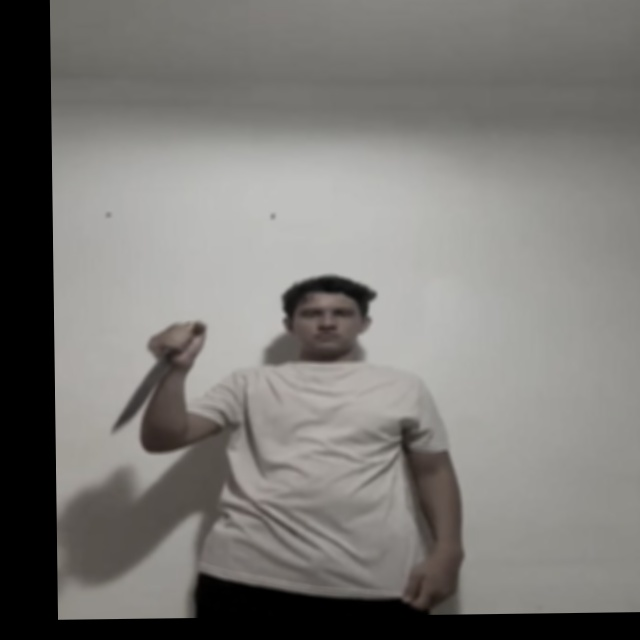Sharp-Object: (115, 356, 170, 429)
